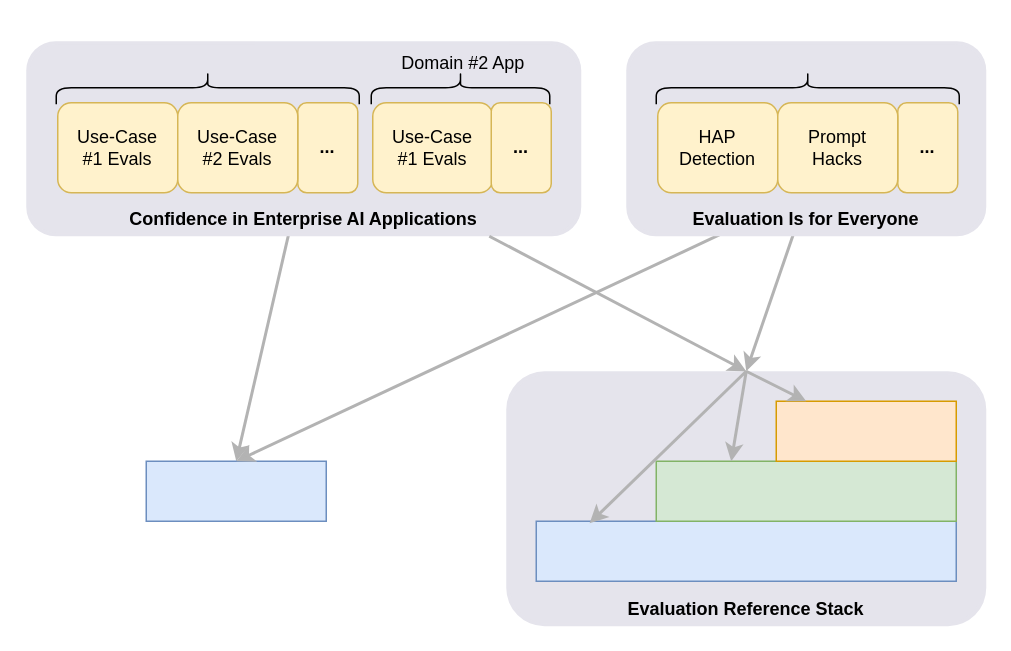
Some shapes in this 1011 by 651 pixel diagram are drawn without their labels. The shapes that lost their labels are listed below. From the top down, each one's centre as x and y in pixels, then its label:
[207,87]: Domain #1 App
[807,87]: OSS Trust and Safety Evaluations
[865,430]: EvalAssist
[235,490]: other runtimes
[805,490]: unitxt
[745,550]: lm-evaluation-harness
